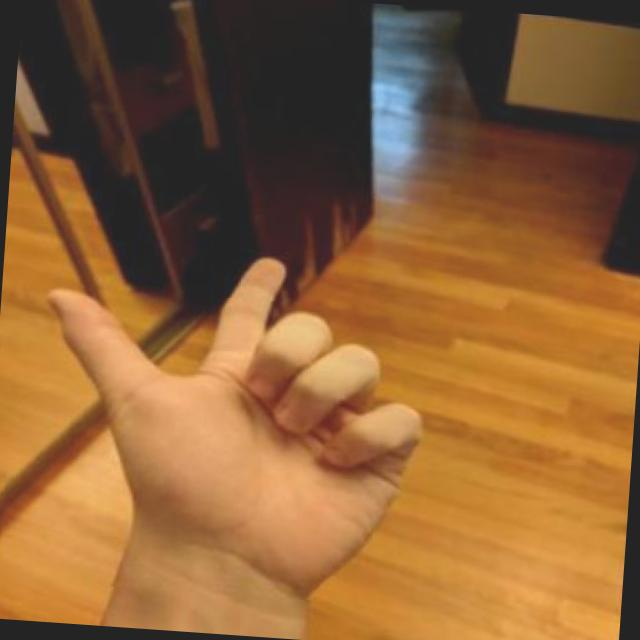L: (0, 215, 459, 609)
